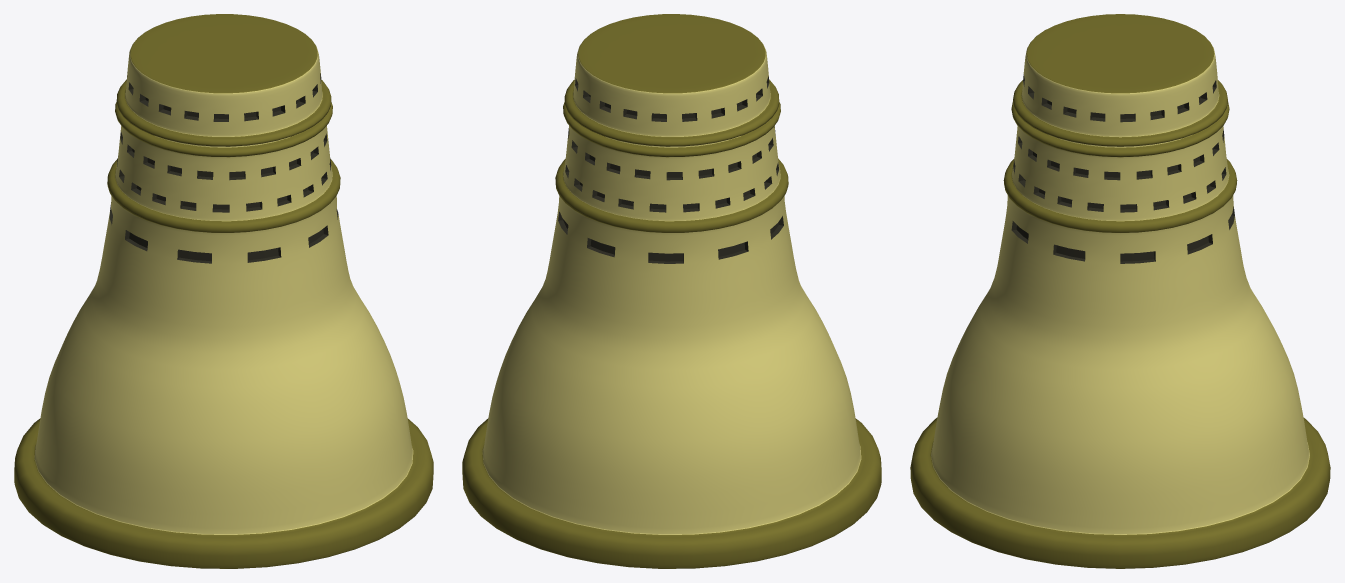
Rendered from ARCH_SC_High.fbx.
3 views of the same model, side by side, from view 1: azimuth 30°, elevation 25°; view 2: azimuth 150°, elevation 25°; view 3: azimuth 270°, elevation 25° (orthographic).
Visible parts, largest first — view 1: pCylinder1; view 2: pCylinder1; view 3: pCylinder1.
Boxes of the visible parts, box(x1,y1,x2,y2) form: pCylinder1: box(14, 14, 433, 568); pCylinder1: box(462, 14, 881, 568); pCylinder1: box(910, 14, 1330, 568).
Size of the model in its own units: 6.24 by 7.02 by 6.24.
